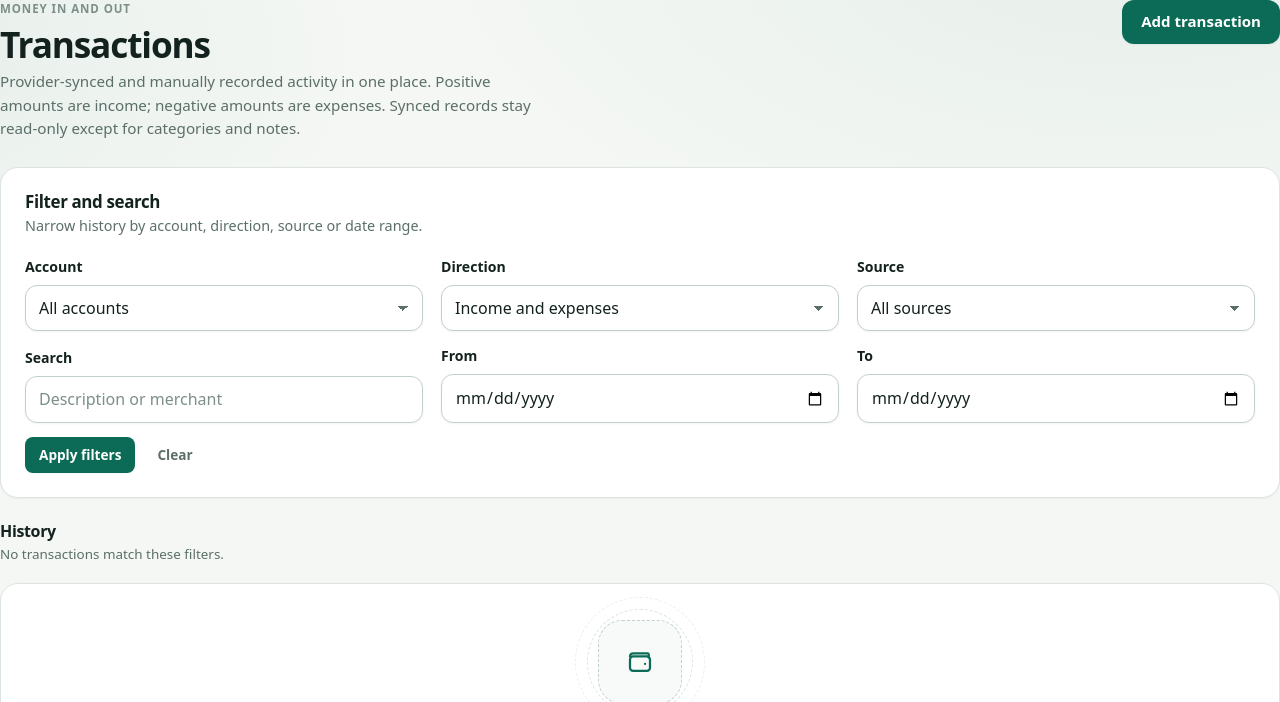
transaction spending awareness › records the transaction after the user confirms
Click the button "Add transaction" at {"x": 1201, "y": 22}, box 1122,0 -> 1279,44
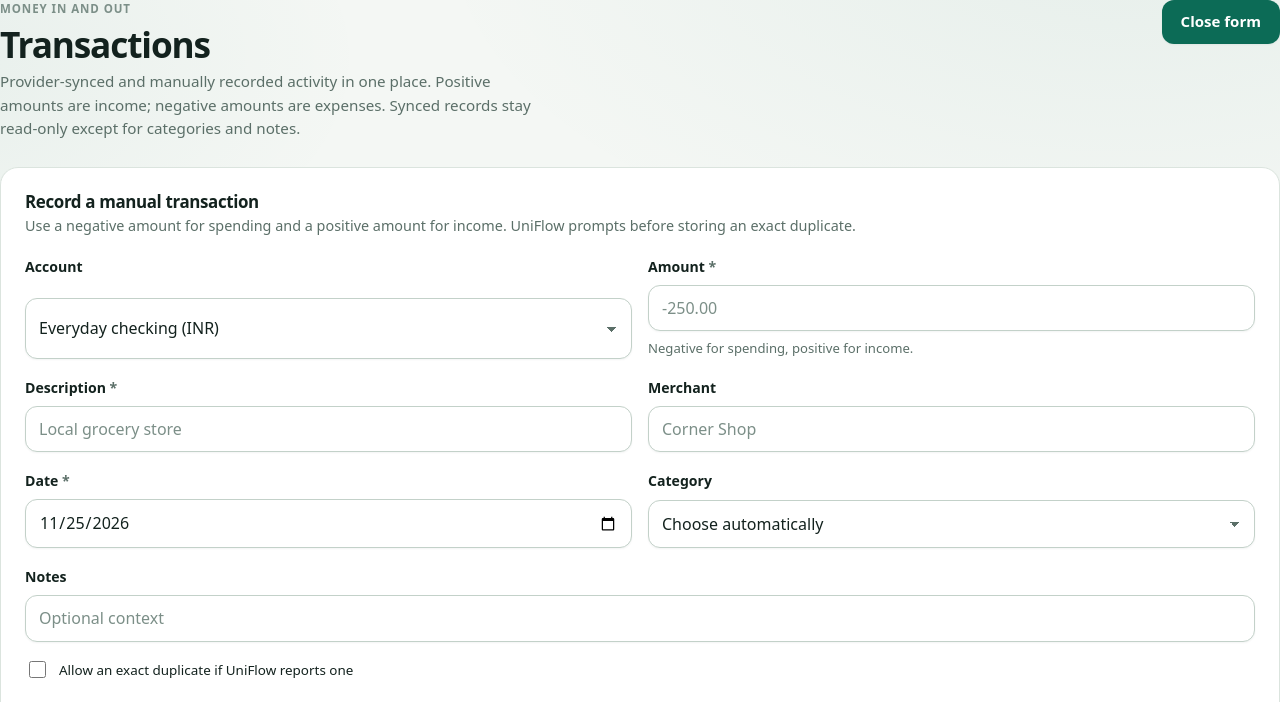
Type "-12000" into the number field labelled "Amount *" at {"x": 952, "y": 308}, box 648,285 -> 1255,331
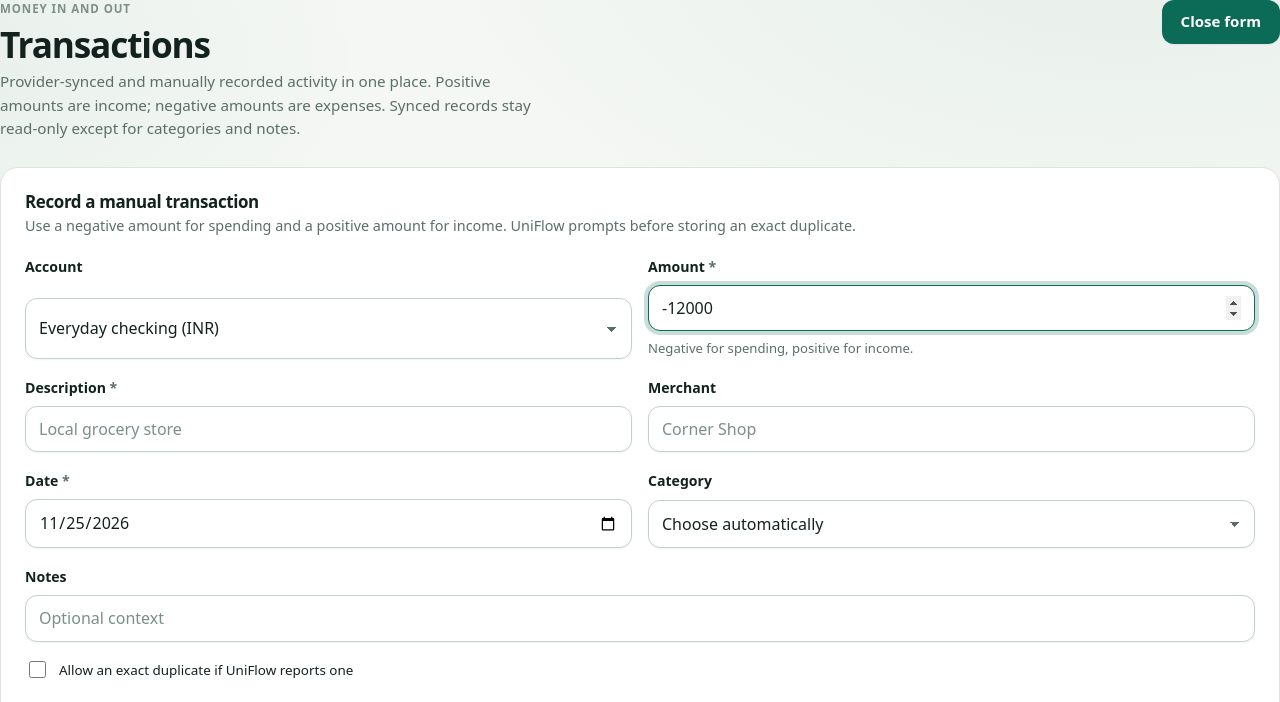
Type "Designer furniture" into the field labelled "Description *" at {"x": 328, "y": 429}, box 25,406 -> 632,452
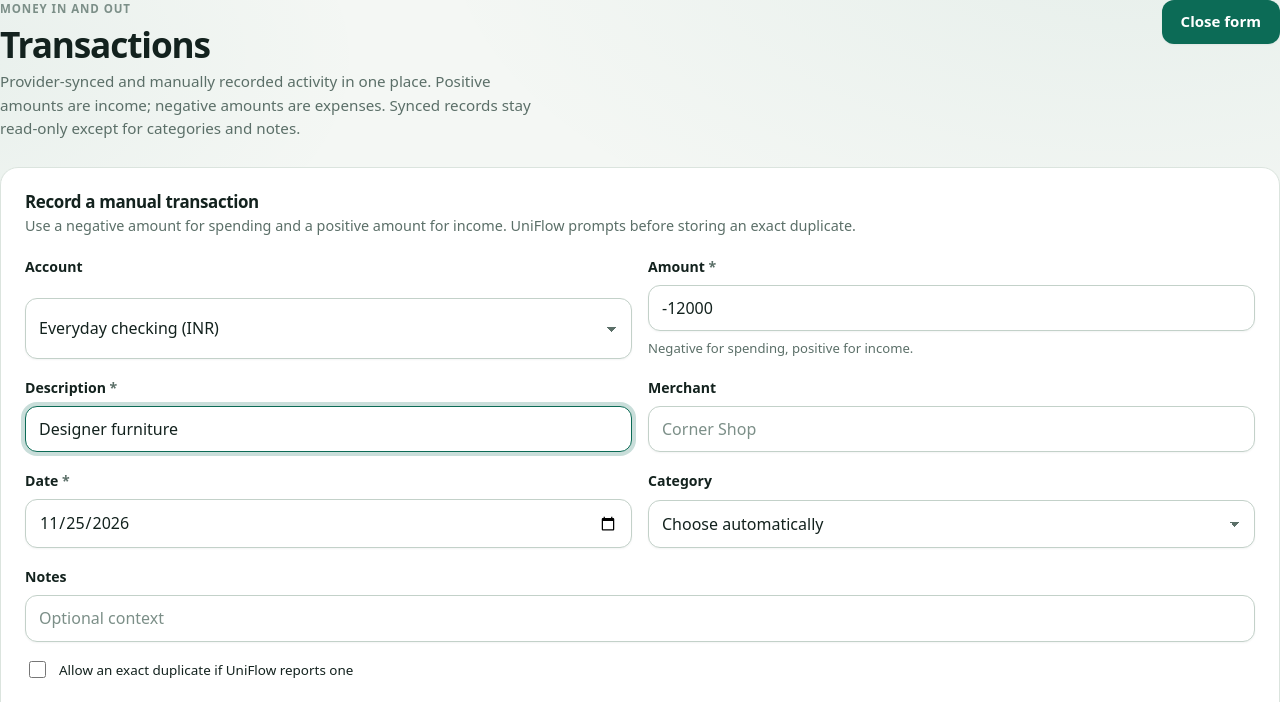
Type "Luxury Store" into the field labelled "Merchant" at {"x": 952, "y": 429}, box 648,406 -> 1255,452
(page scrolled)
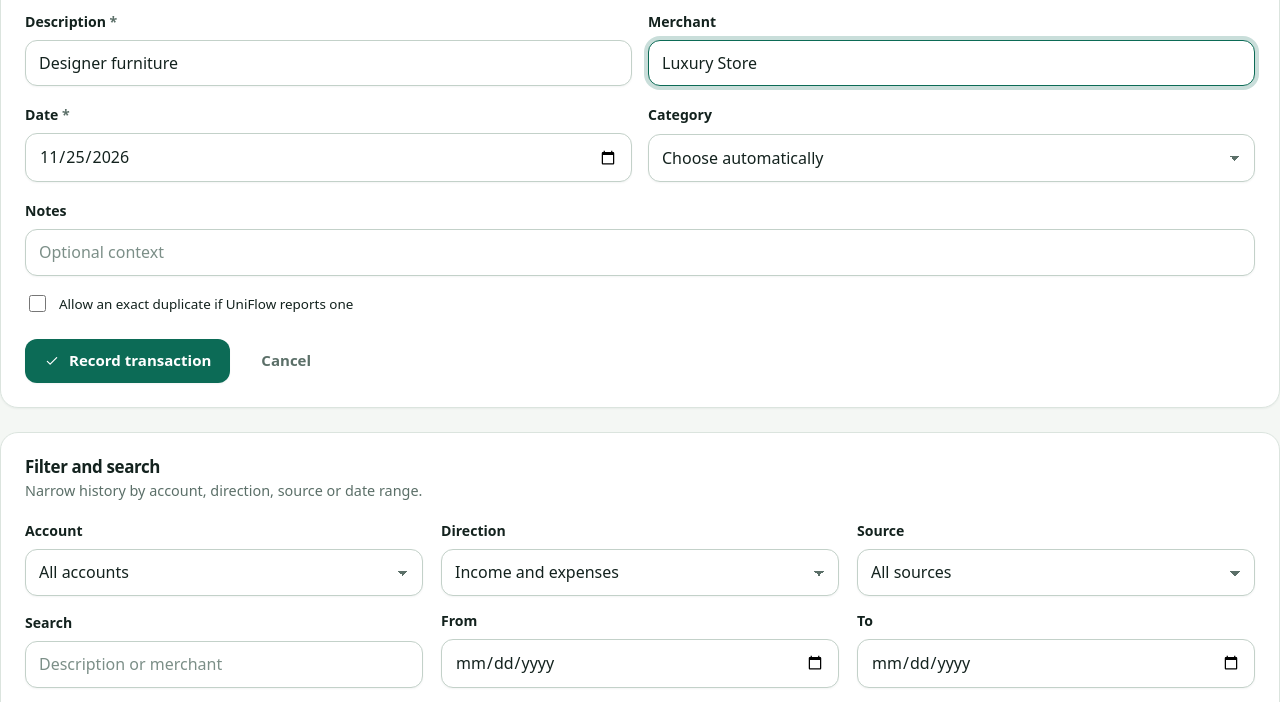
Click the button "Record transaction" at {"x": 128, "y": 361}, box 25,339 -> 230,383
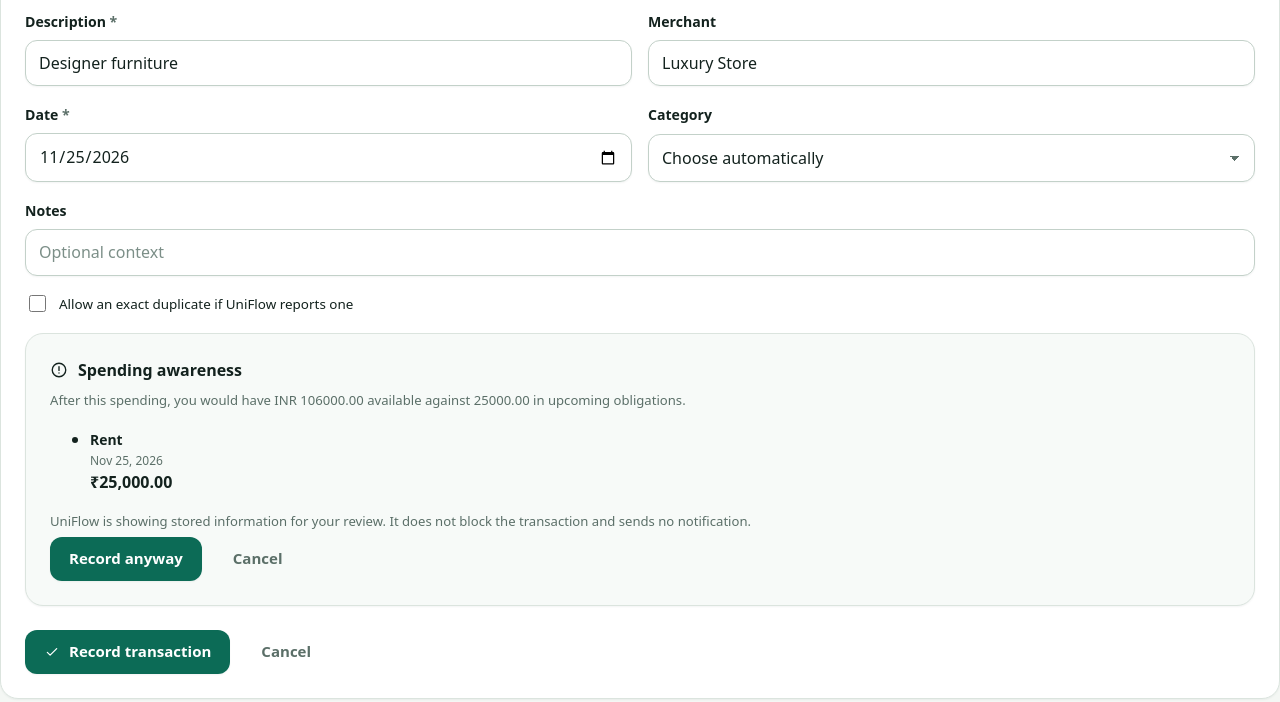
Click the button "Record anyway" at {"x": 126, "y": 559}, box 50,537 -> 202,581
(page scrolled)
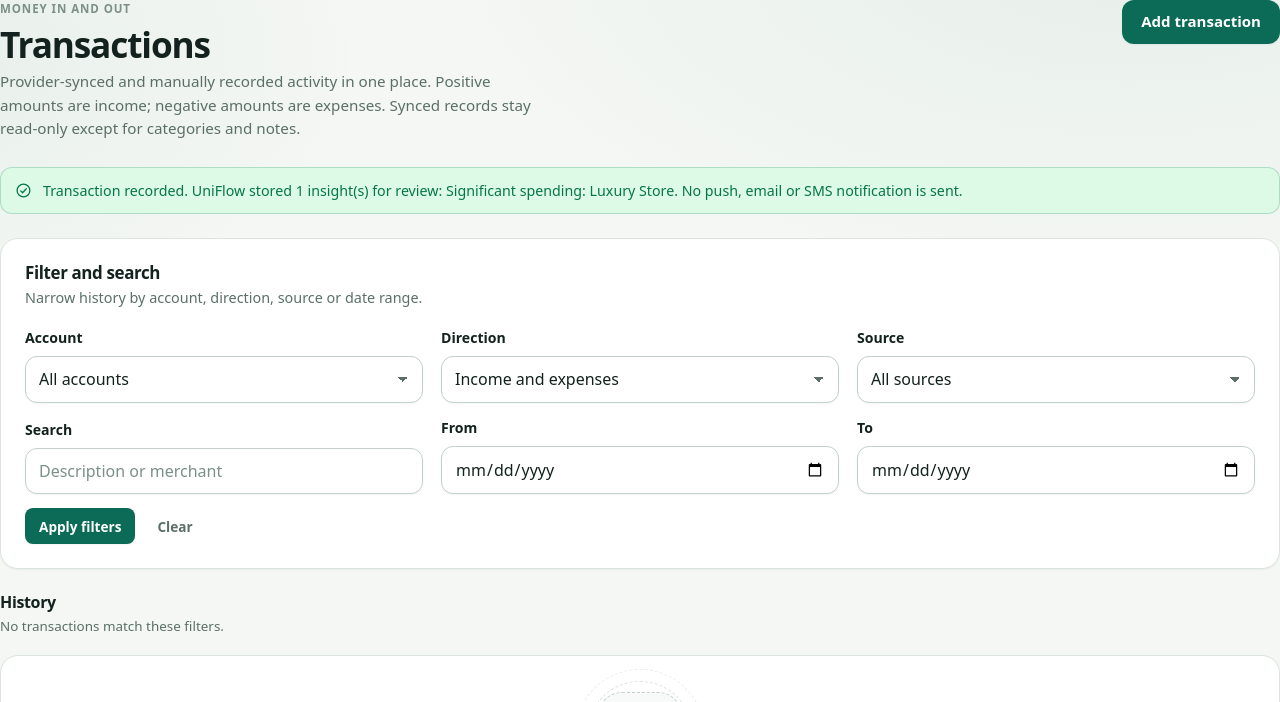
Expected: the text "No push, email or SMS notification is sent" is shown, 43,181 -> 963,200
